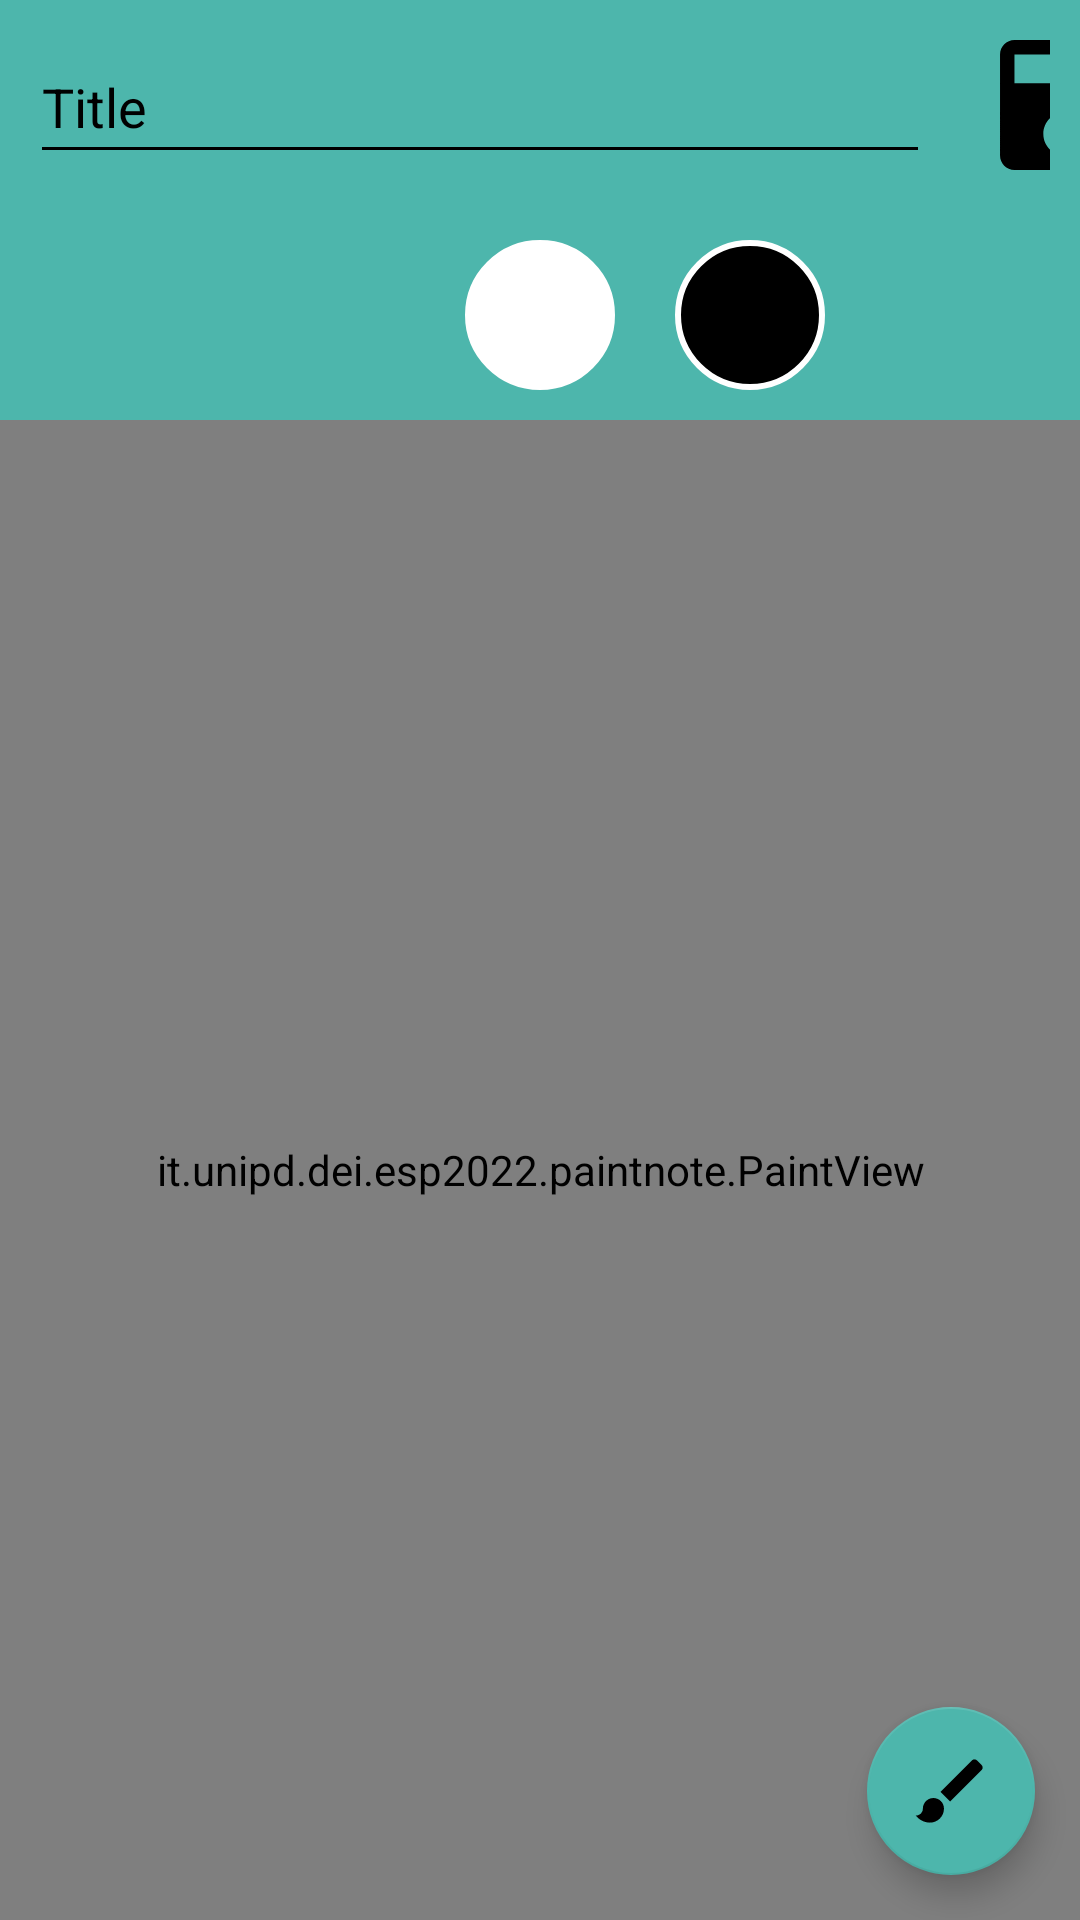

Named icons in this screenshot (1080 × 1920) and their centers, (x=x, y=y):
brush: (x=951, y=1791)
